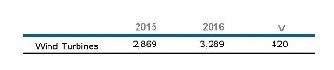table: (0, 0, 334, 70)
